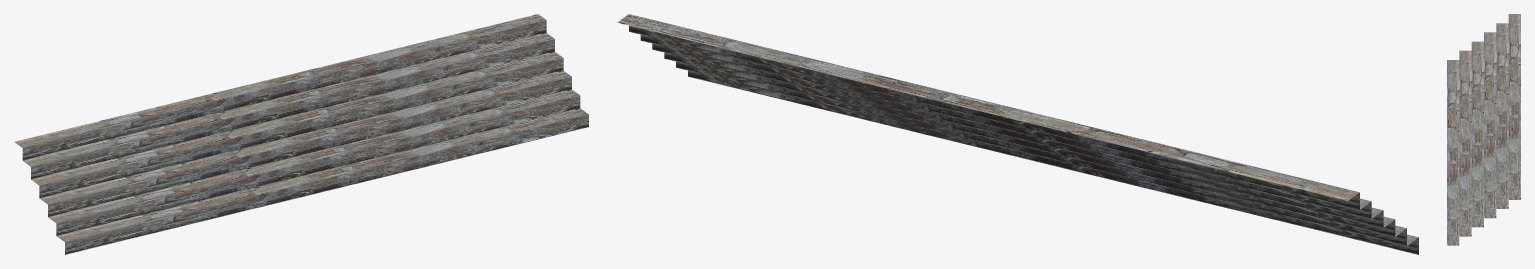
File: Stair.fbx
3 renders of one model, left to right at view 1: azimuth 30°, elevation 25°; view 2: azimuth 150°, elevation 25°; view 3: azimuth 270°, elevation 25°, orthographic. The views are drawn at different scales.
Parts seen in each view (by area): view 1: Plane; view 2: Plane; view 3: Plane.
Boxes of the visible parts, x1=… form: Plane: x1=14, y1=14, x2=588, y2=254; Plane: x1=617, y1=14, x2=1418, y2=254; Plane: x1=1447, y1=14, x2=1520, y2=245.
Size of the model in its own units: 915 by 127 by 154.
